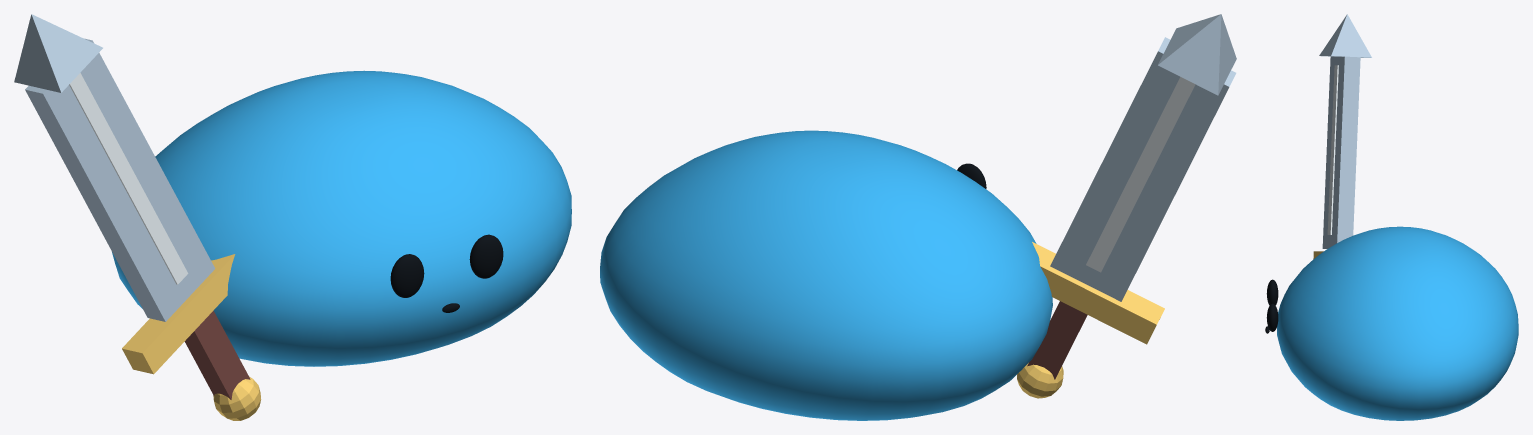
The model's file is greatsword-slime.glb.
The picture shows the model from 3 angles, left to right: view 1: azimuth 30°, elevation 25°; view 2: azimuth 150°, elevation 25°; view 3: azimuth 270°, elevation 25°; orthographic projection. The views are drawn at different scales.
Visible parts, largest first — view 1: Body, Sword_Blade, Sword_Guard, Sword_Tip, Greatsword_Fuller, Sword_Grip, Sword_Pommel, Eye_R, Eye_L; view 2: Body, Sword_Blade, Sword_Guard, Sword_Tip, Greatsword_Fuller, Sword_Grip, Sword_Pommel; view 3: Body, Sword_Blade, Sword_Tip, Greatsword_Fuller, Eye_R, Eye_L.
Part boxes in pixels (x1,y1,x2,y2): Body: (112,70,571,366); Sword_Blade: (25,38,215,321); Sword_Guard: (122,254,235,374); Sword_Tip: (14,14,102,92); Greatsword_Fuller: (69,73,188,284); Sword_Grip: (184,311,250,399); Sword_Pommel: (213,376,261,420); Eye_R: (469,234,503,278); Eye_L: (390,254,424,297); Body: (600,130,1052,420); Sword_Blade: (1050,37,1236,301); Sword_Guard: (1032,242,1164,344); Sword_Tip: (1158,14,1236,95); Greatsword_Fuller: (1086,77,1195,272); Sword_Grip: (1027,301,1087,379); Sword_Pommel: (1017,363,1063,398); Body: (1277,226,1518,420); Sword_Blade: (1322,56,1360,248); Sword_Tip: (1319,14,1371,57); Greatsword_Fuller: (1327,65,1338,234); Eye_R: (1266,303,1278,331); Eye_L: (1266,279,1278,305).
Size of the model in its own units: 3.26 by 2.41 by 2.
